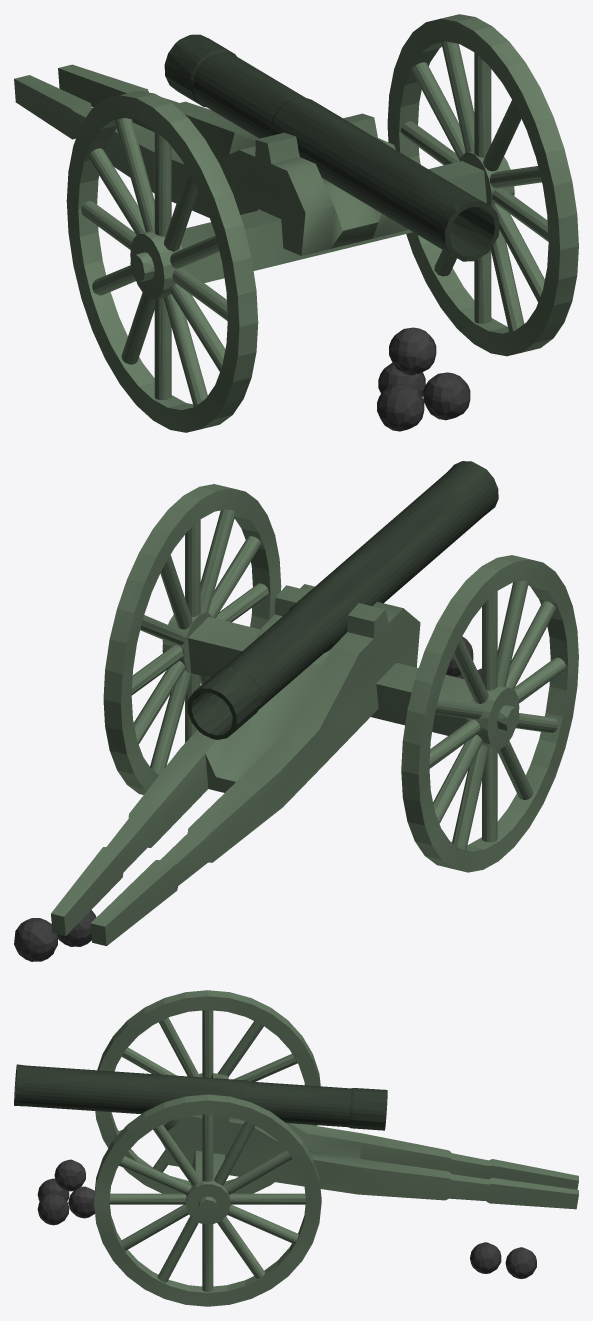
File: cimpletoon.f32c67875649.artillery.glb
3 renders of one model, top to bottom at view 1: azimuth 30°, elevation 25°; view 2: azimuth 150°, elevation 25°; view 3: azimuth 270°, elevation 25°, orthographic. The views are drawn at different scales.
Parts seen in each view (by area): view 1: artillery.glb; view 2: artillery.glb; view 3: artillery.glb.
Part boxes in pixels (x1,y1,x2,y2): artillery.glb: [14, 14, 578, 432]; artillery.glb: [14, 461, 578, 961]; artillery.glb: [14, 990, 578, 1306].
Bounding box in the file's own units: 1.73 × 1.4 × 3.46.
Materials: 1 (1 with a texture image).
